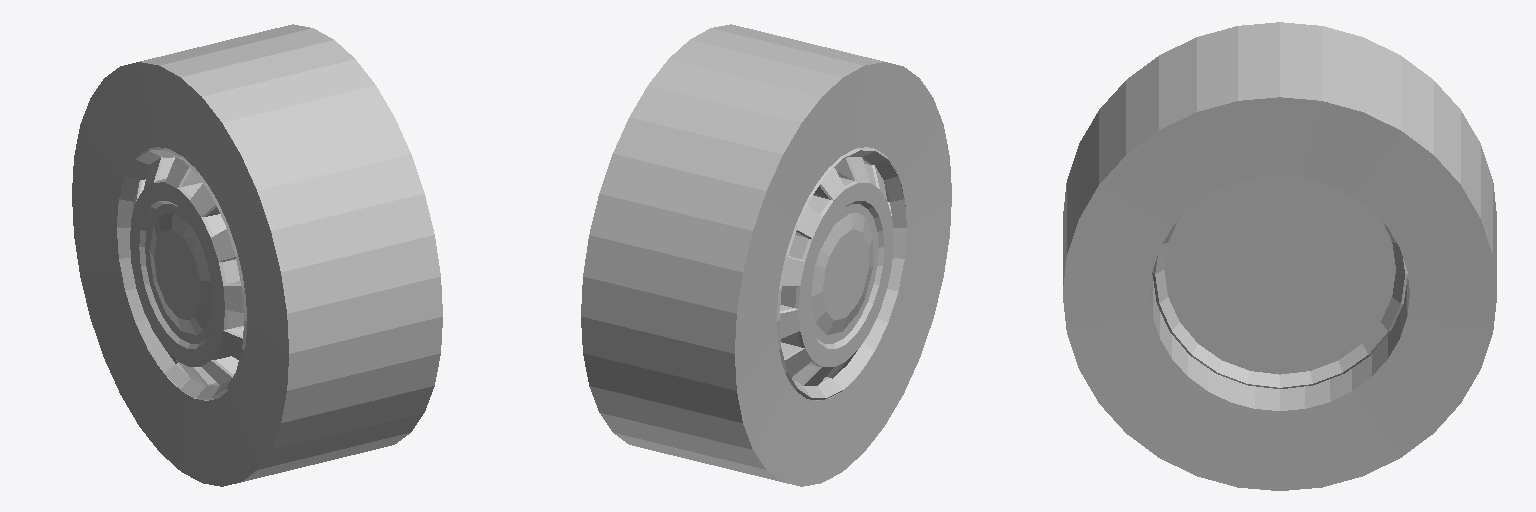
The model's file is LKW_RightwheelF.obj.
3 renders of one model, left to right at view 1: azimuth 30°, elevation 25°; view 2: azimuth 150°, elevation 25°; view 3: azimuth 270°, elevation 25°, orthographic.
Bounding box in the file's own units: 0.5627 × 1.35 × 1.35.